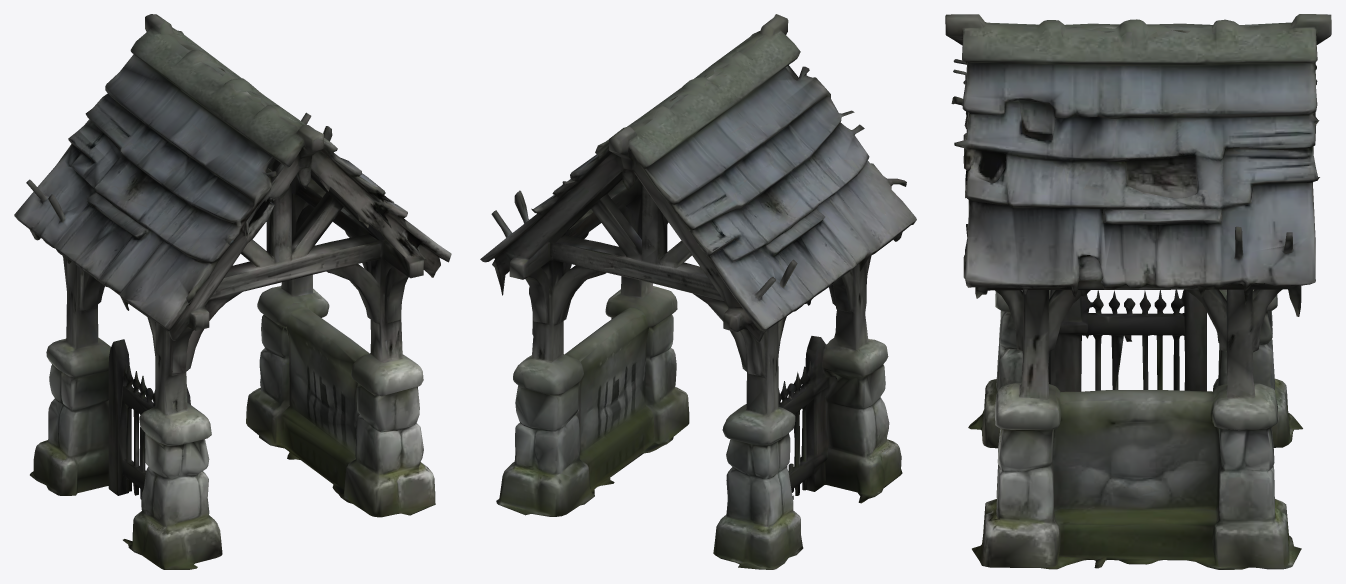
Rendered from Lychgate.opt.glb.
3 views of the same model, side by side, from view 1: azimuth 30°, elevation 25°; view 2: azimuth 150°, elevation 25°; view 3: azimuth 270°, elevation 25° (orthographic). The views are drawn at different scales.
Visible parts, largest first — view 1: node_0; view 2: node_0; view 3: node_0.
Part boxes in pixels (box(x1,y1,x2,y2)): node_0: box(14, 14, 451, 569); node_0: box(480, 14, 916, 569); node_0: box(945, 14, 1331, 569).
Bounding box in the file's own units: 0.6512 × 0.8904 × 0.6526.
Materials: 1 (1 with a texture image).
